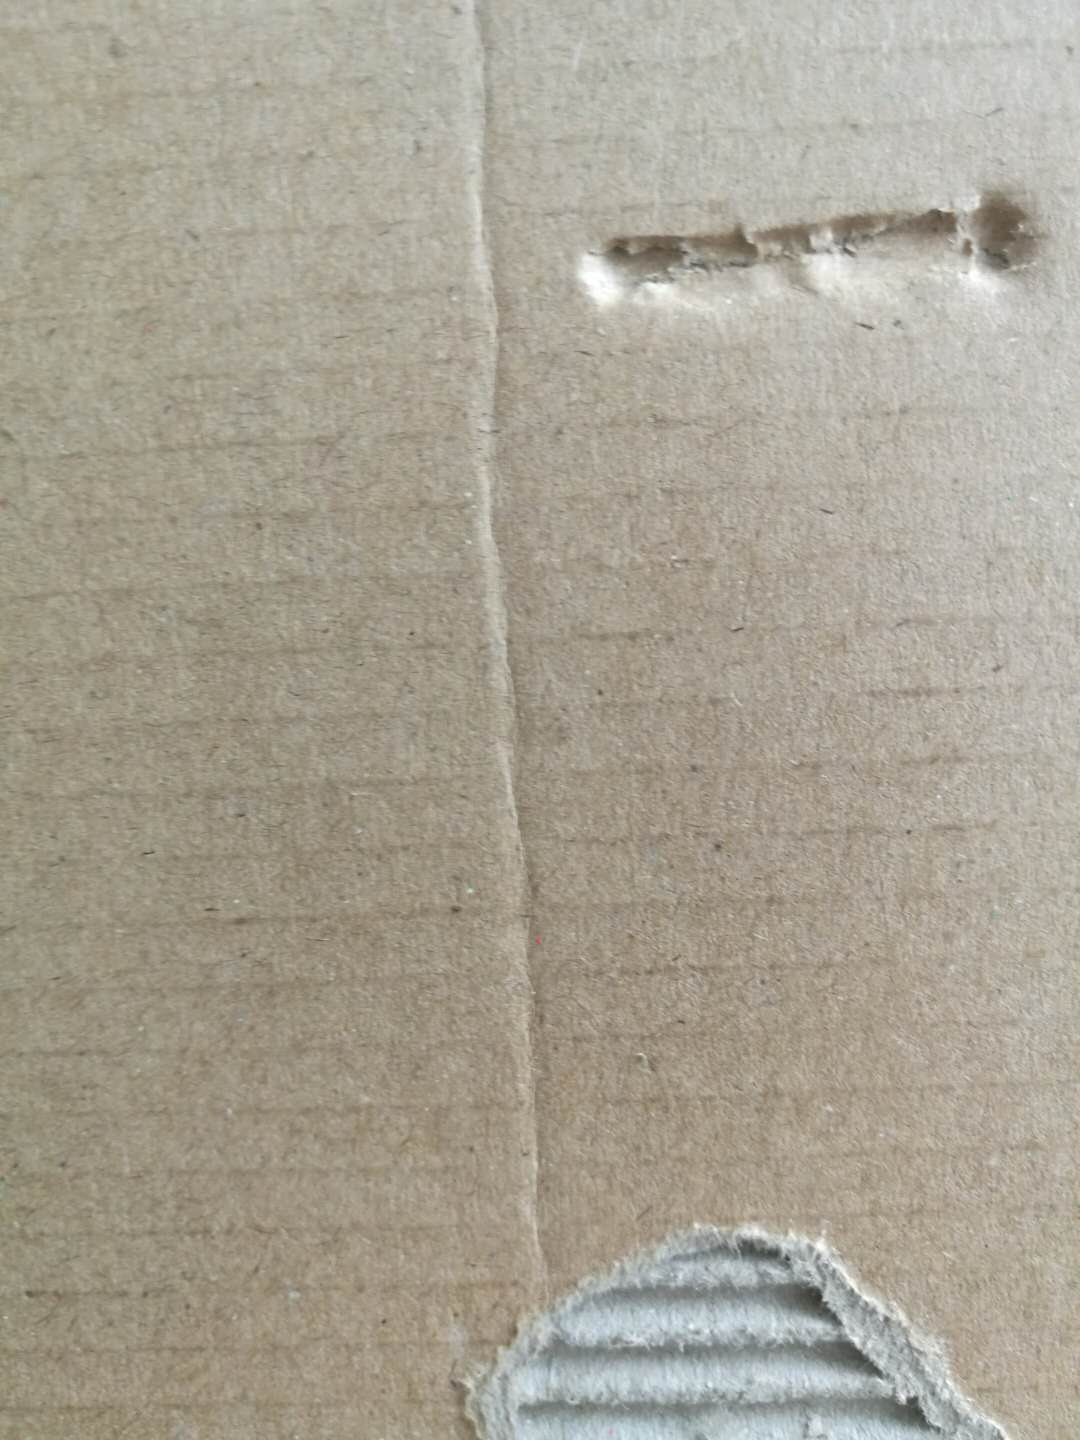defect: (442, 1, 587, 1312), (440, 1208, 1068, 1440), (555, 162, 1068, 342)
